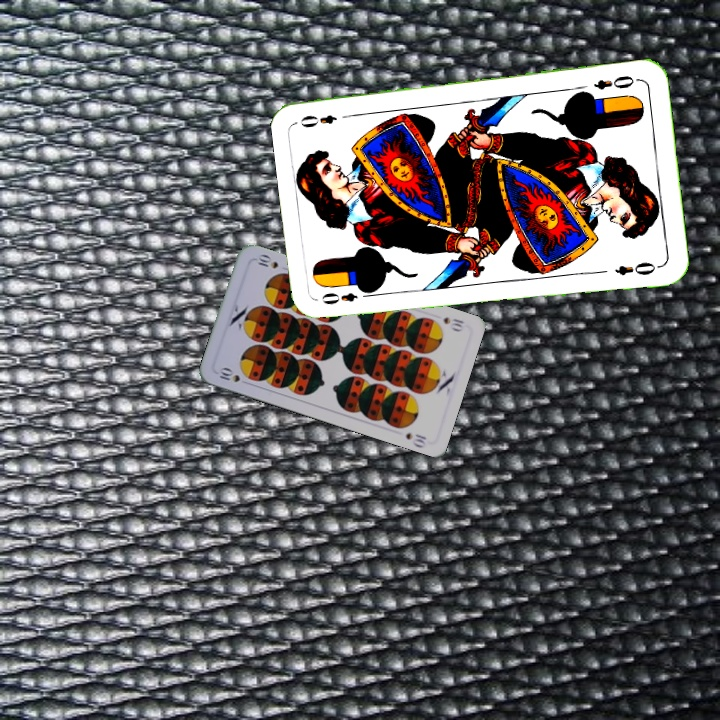EO: (590, 71, 642, 92), (317, 289, 361, 308)
S10: (213, 363, 252, 387), (439, 313, 466, 334)
